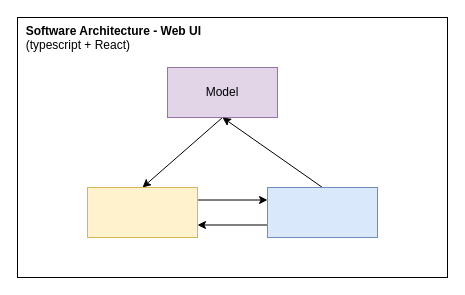
Image size: 465x295. Some labels were removed from this diagram. The shapes that lost their labels are listed below. From the top down, each one's centre as x and y in pixels, then its label:
At (142,212): "View".
At (322,212): "Controller".
